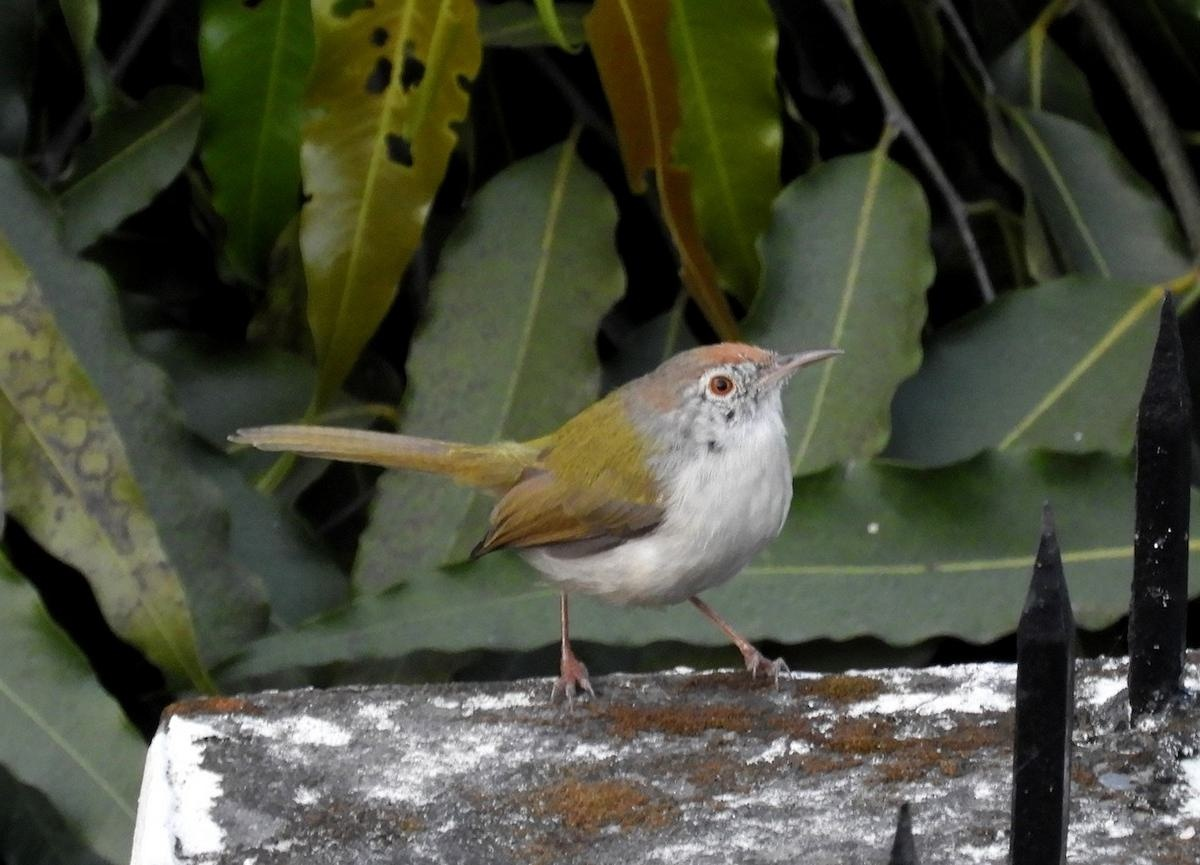tailorbird: (220, 326, 861, 712)
